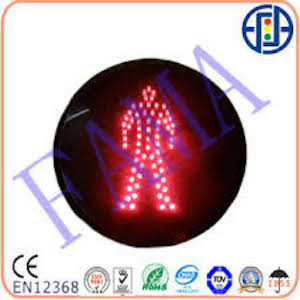red: (122, 84, 184, 220)
